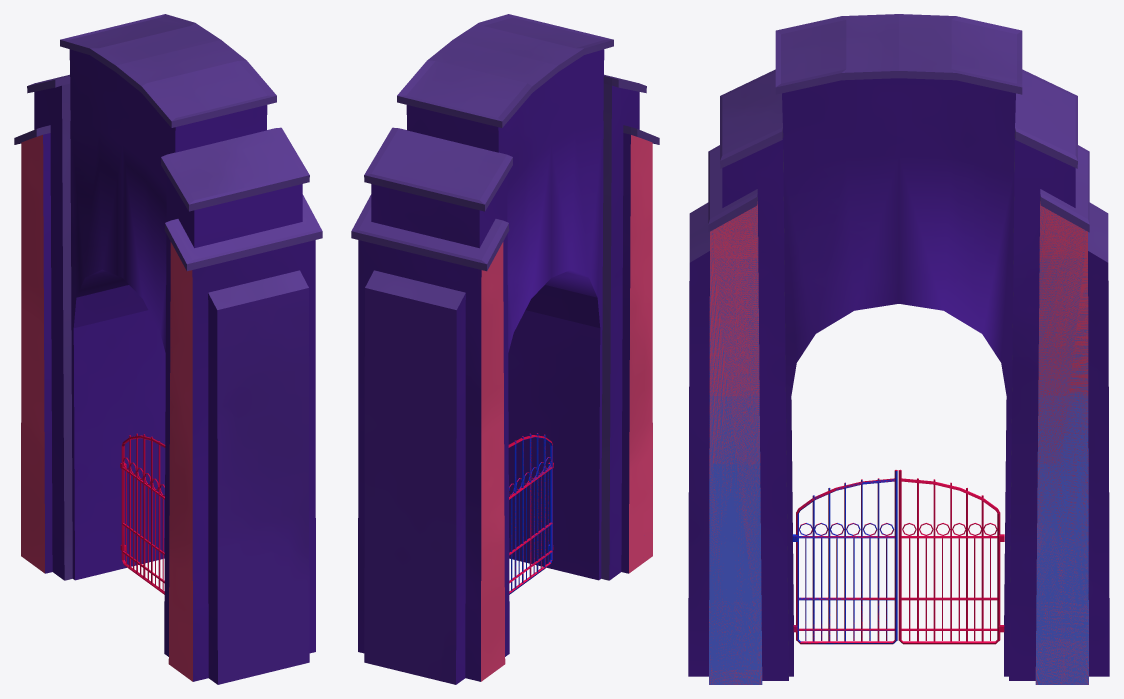
File: SM_Gate.fbx
3 renders of one model, left to right at view 1: azimuth 30°, elevation 25°; view 2: azimuth 150°, elevation 25°; view 3: azimuth 270°, elevation 25°, orthographic. The views are drawn at different scales.
Parts seen in each view (by area): view 1: Gate_Red, Gate_Blue, Gate_Red_Door_R; view 2: Gate_Red, Gate_Blue, Gate_Blue_Door_L, Gate_Red_Door_L; view 3: Gate_Red, Gate_Blue, Gate_Red_Door_R, Gate_Blue_Door_L, Gate_Red_Door_L.
Part boxes in pixels (x1=…): Gate_Red: x1=14, y1=14, x2=322, y2=684; Gate_Blue: x1=14, y1=14, x2=322, y2=681; Gate_Red_Door_R: x1=120, y1=433, x2=165, y2=594; Gate_Red: x1=353, y1=14, x2=659, y2=684; Gate_Blue: x1=351, y1=14, x2=659, y2=684; Gate_Blue_Door_L: x1=509, y1=433, x2=553, y2=594; Gate_Red_Door_L: x1=508, y1=433, x2=553, y2=593; Gate_Red: x1=688, y1=14, x2=1109, y2=684; Gate_Blue: x1=688, y1=14, x2=1109, y2=684; Gate_Red_Door_R: x1=898, y1=469, x2=1004, y2=644; Gate_Blue_Door_L: x1=792, y1=471, x2=897, y2=644; Gate_Red_Door_L: x1=793, y1=470, x2=897, y2=644.
Size of the model in its own units: 4.42 by 17.16 by 10.75.
